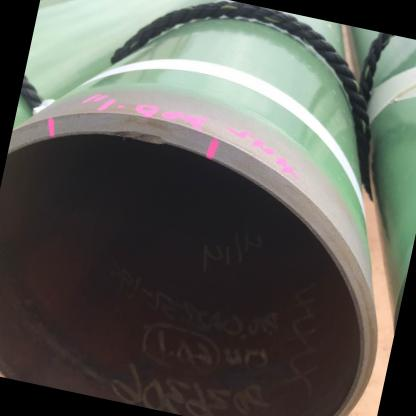Bevel: (90, 116, 170, 154)
